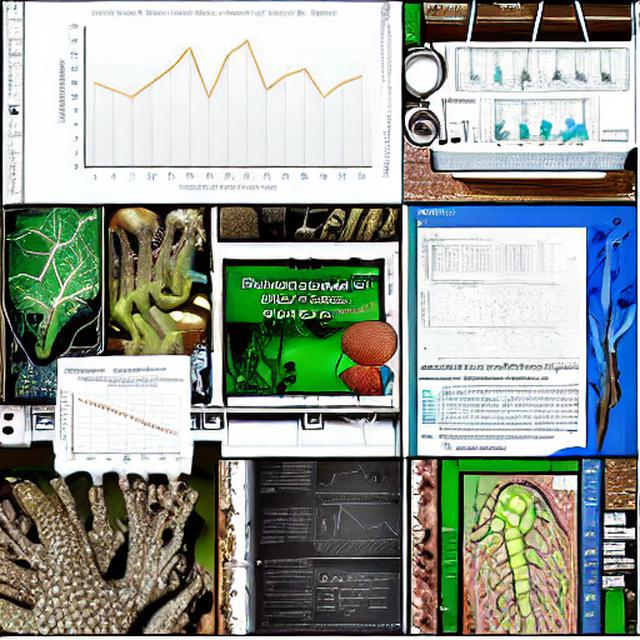Graph: (50, 3, 380, 202), (57, 376, 189, 467), (304, 501, 402, 558), (420, 282, 509, 335)
